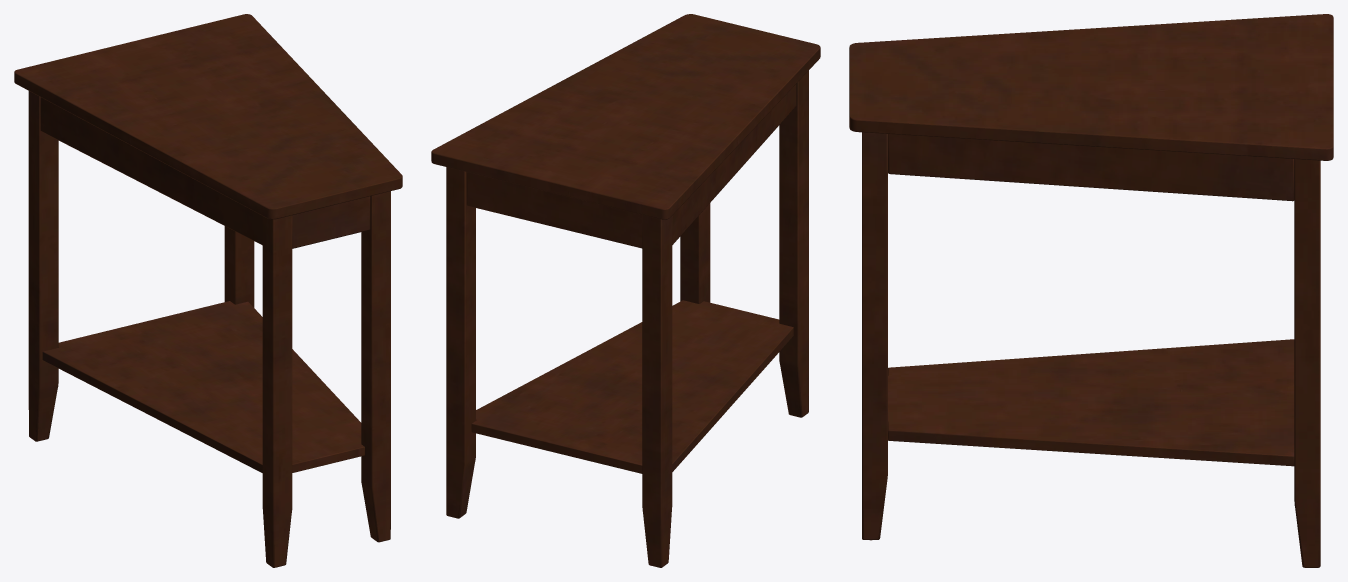
Rendered from B07DMHP1ZY.glb.
3 views of the same model, side by side, from view 1: azimuth 30°, elevation 25°; view 2: azimuth 150°, elevation 25°; view 3: azimuth 270°, elevation 25° (orthographic). The views are drawn at different scales.
Parts seen in each view (by area): view 1: B07DMHP1ZY; view 2: B07DMHP1ZY; view 3: B07DMHP1ZY.
Part boxes in pixels (x1,y1,x2,y2): B07DMHP1ZY: (14, 14, 402, 567); B07DMHP1ZY: (431, 14, 820, 567); B07DMHP1ZY: (849, 14, 1333, 567).
Size of the model in its own units: 0.3988 by 0.5893 by 0.6045.
Materials: 1 (1 with a texture image).
